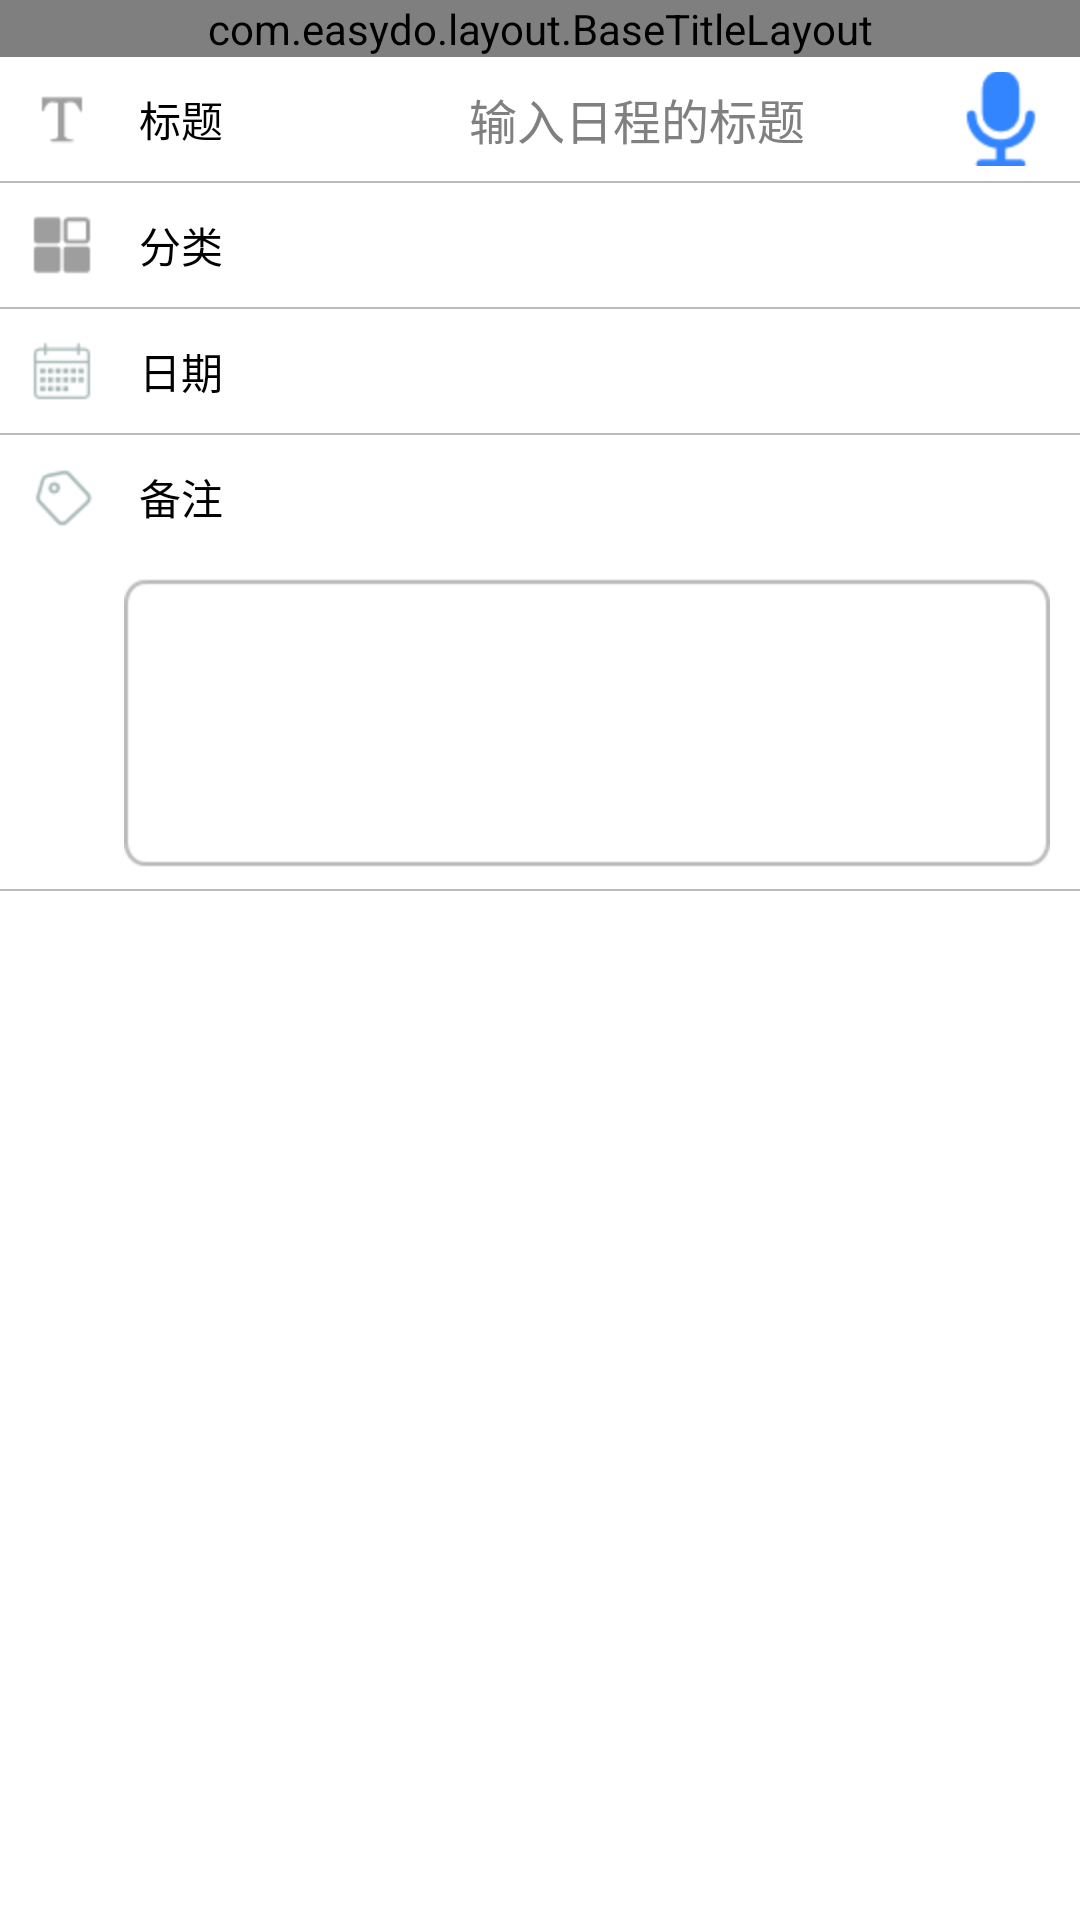

Screen size 1080x1920. Icon name, then its center in pixels as (x=x, y=y):
date: (x=61, y=371)
dictation: (x=1001, y=119)
remark: (x=64, y=498)
type: (x=62, y=245)
